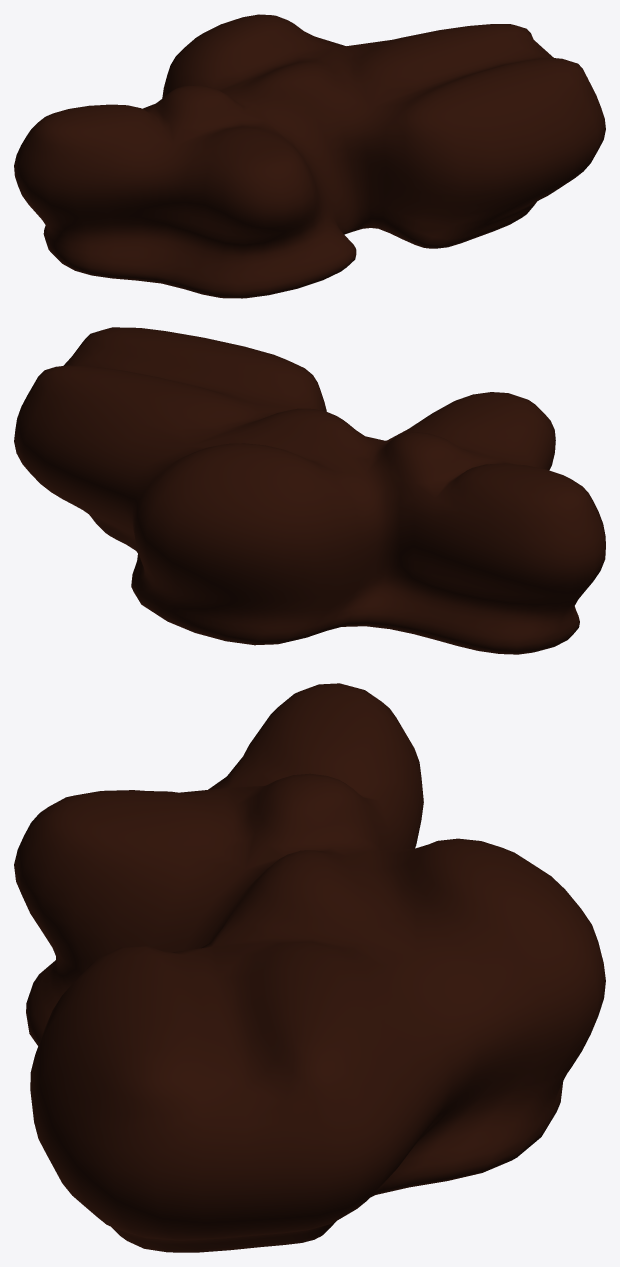
Rendered from orzeszki  w czekoladzie.fbx.
3 views of the same model, one above another, from view 1: azimuth 30°, elevation 25°; view 2: azimuth 150°, elevation 25°; view 3: azimuth 270°, elevation 25° (orthographic). The views are drawn at different scales.
Parts seen in each view (by area): view 1: Cube; view 2: Cube; view 3: Cube.
Part boxes in pixels (x1=…): Cube: x1=14, y1=14, x2=605, y2=298; Cube: x1=14, y1=327, x2=605, y2=654; Cube: x1=14, y1=683, x2=605, y2=1252.
Bounding box in the file's own units: 938 × 272 × 568.
